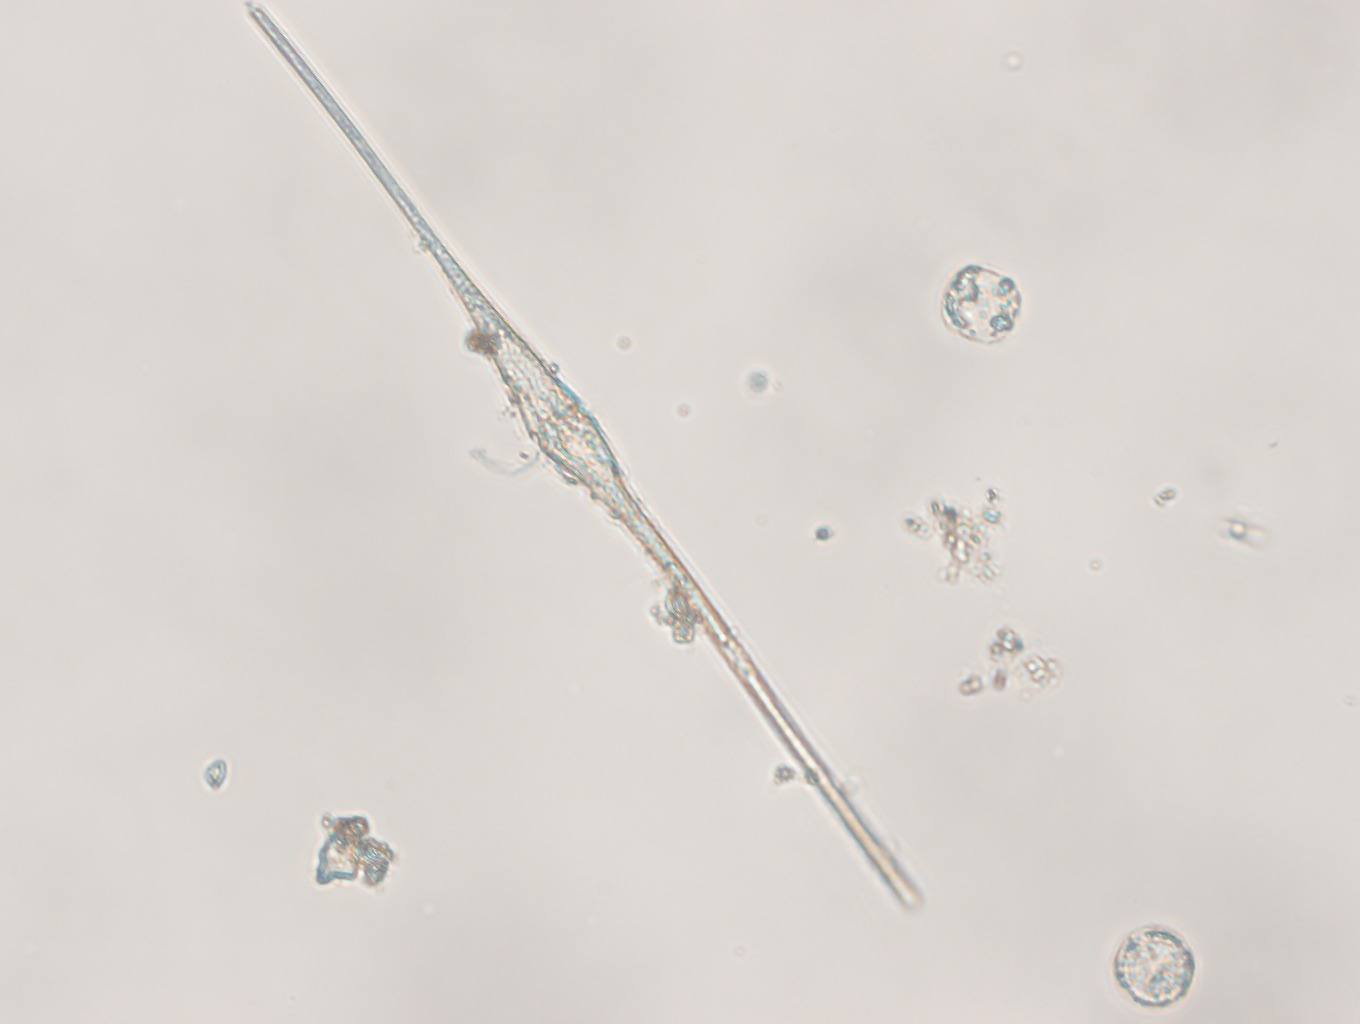ceratium fusus: (249, 1, 928, 915)
